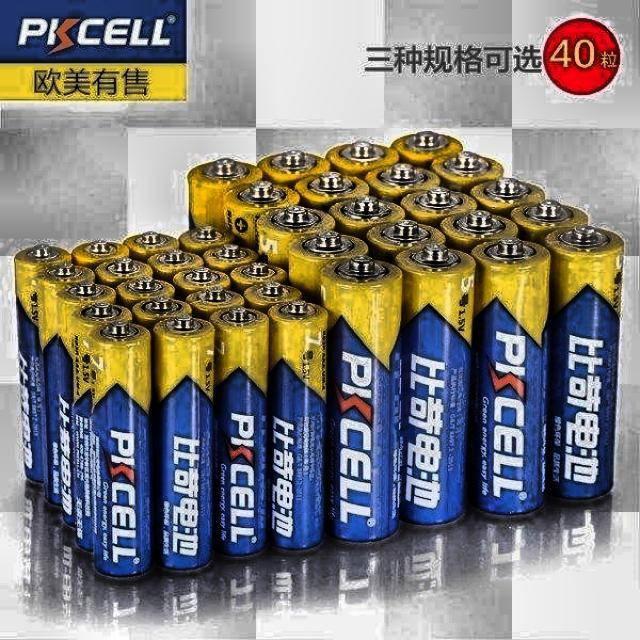battery: (189, 131, 624, 541), (14, 226, 326, 576)
